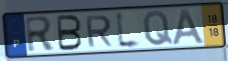A: (171, 8, 207, 46)
B: (56, 14, 84, 52)
L: (114, 9, 144, 51)
Q: (142, 10, 175, 48)
R: (24, 15, 58, 54), (84, 14, 115, 49)
